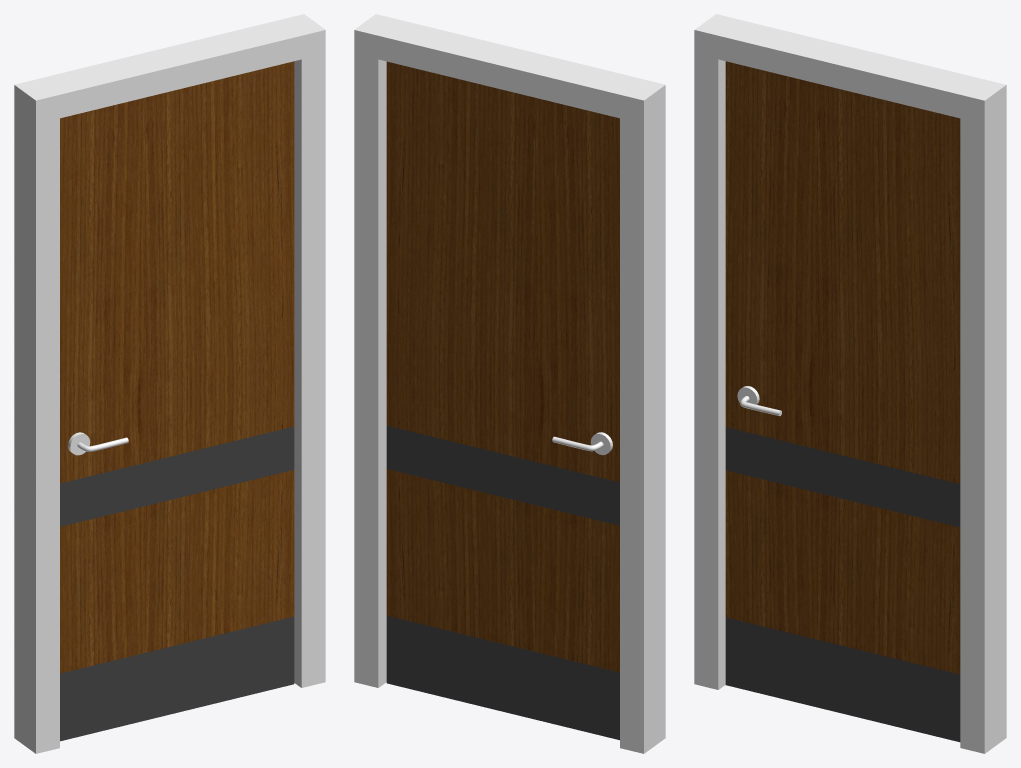
File: Door 1.FBX
The picture shows the model from 3 angles, left to right: view 1: azimuth 30°, elevation 25°; view 2: azimuth 150°, elevation 25°; view 3: azimuth 330°, elevation 25°; orthographic projection.
Parts seen in each view (by area): view 1: Door, door frame; view 2: Door, door frame; view 3: Door, door frame.
Boxes of the visible parts, x1=… form: Door: x1=60, y1=61, x2=294, y2=741; door frame: x1=14, y1=14, x2=325, y2=753; Door: x1=386, y1=61, x2=619, y2=740; door frame: x1=354, y1=14, x2=665, y2=753; Door: x1=725, y1=61, x2=960, y2=742; door frame: x1=694, y1=14, x2=1006, y2=753.
Size of the model in its own units: 96.56 by 208 by 16.82.
2 materials, 1 textured.
